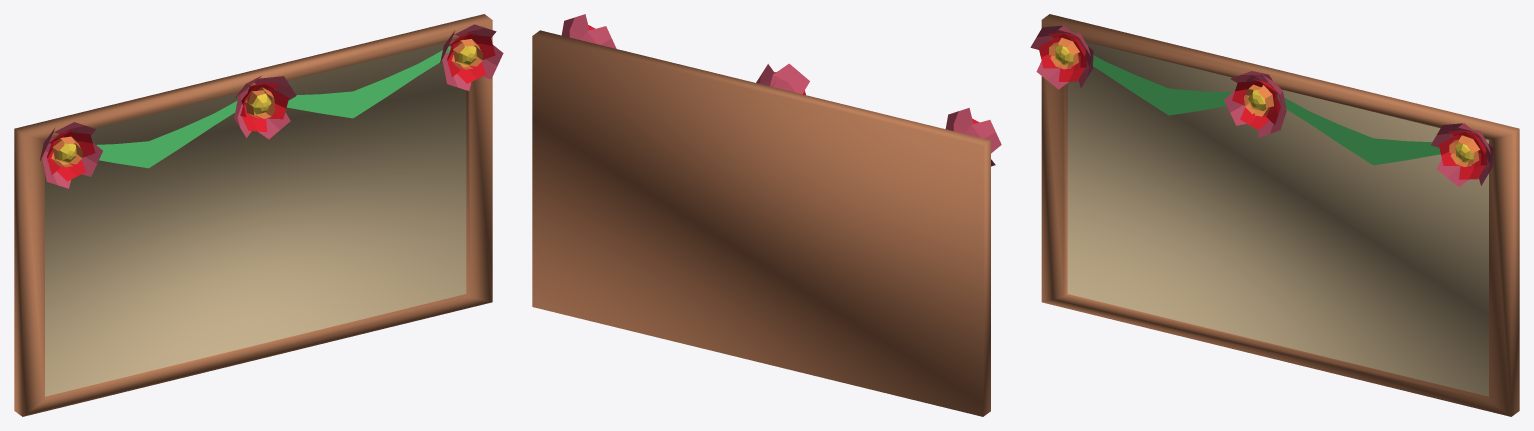
File: announcement board.fbx
3 views of the same model, side by side, from view 1: azimuth 30°, elevation 25°; view 2: azimuth 150°, elevation 25°; view 3: azimuth 330°, elevation 25° (orthographic). The views are drawn at different scales.
Parts seen in each view (by area): view 1: Plane.008; view 2: Plane.008; view 3: Plane.008.
Part boxes in pixels (left/top/right/bottom): Plane.008: left=14, top=14, right=503, bottom=416; Plane.008: left=532, top=14, right=1001, bottom=416; Plane.008: left=1030, top=14, right=1519, bottom=416.
Bounding box in the file's own units: 1008 × 609 × 84.97.
